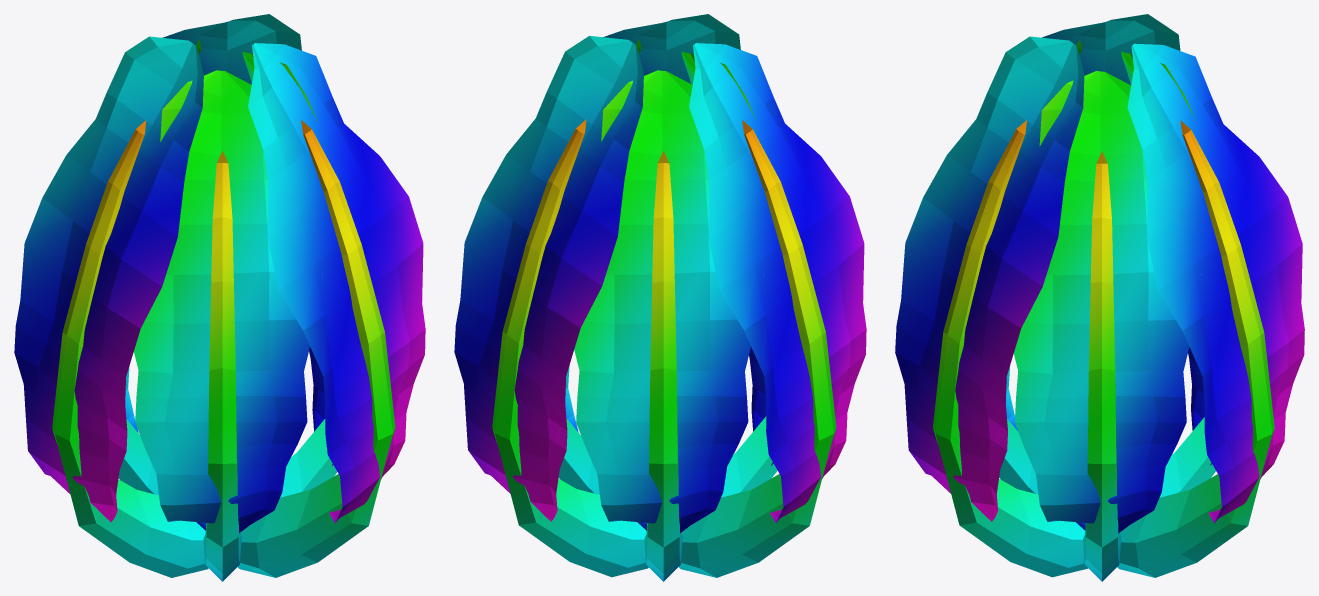
3 views of the same model, side by side, from view 1: azimuth 30°, elevation 25°; view 2: azimuth 150°, elevation 25°; view 3: azimuth 270°, elevation 25° (orthographic).
Visible parts, largest first — view 1: pPlane010, pPlane009, pPlane006, オブジェクト004, オブジェクト024, オブジェクト007, pPlane012, オブジェクト027, オブジェクト025, pPlane013; view 2: pPlane012, pPlane011, pPlane010, オブジェクト024, オブジェクト026, オブジェクト025, pPlane006, オブジェクト007, オブジェクト027, pPlane009; view 3: pPlane006, pPlane013, pPlane012, オブジェクト026, オブジェクト004, オブジェクト027, pPlane010, オブジェクト025, オブジェクト007, pPlane011.
Boxes of the visible parts, x1=… form: pPlane010: x1=14, y1=36, x2=203, y2=522; pPlane009: x1=134, y1=70, x2=322, y2=532; pPlane006: x1=248, y1=43, x2=425, y2=523; オブジェクト004: x1=238, y1=120, x2=395, y2=577; オブジェクト024: x1=52, y1=120, x2=208, y2=577; オブジェクト007: x1=203, y1=151, x2=241, y2=581; pPlane012: x1=162, y1=14, x2=301, y2=84; オブジェクト027: x1=280, y1=419, x2=337, y2=497; オブジェクト025: x1=118, y1=419, x2=158, y2=495; pPlane013: x1=242, y1=51, x2=333, y2=465; pPlane012: x1=454, y1=35, x2=643, y2=521; pPlane011: x1=574, y1=70, x2=763, y2=532; pPlane010: x1=689, y1=43, x2=866, y2=523; オブジェクト024: x1=679, y1=120, x2=836, y2=577; オブジェクト026: x1=492, y1=119, x2=648, y2=577; オブジェクト025: x1=644, y1=151, x2=682, y2=581; pPlane006: x1=603, y1=14, x2=740, y2=83; オブジェクト007: x1=721, y1=415, x2=777, y2=497; オブジェクト027: x1=558, y1=418, x2=599, y2=494; pPlane009: x1=681, y1=51, x2=773, y2=465; pPlane006: x1=895, y1=36, x2=1084, y2=521; pPlane013: x1=1013, y1=71, x2=1201, y2=533; pPlane012: x1=1127, y1=43, x2=1304, y2=523; オブジェクト026: x1=1117, y1=120, x2=1274, y2=577; オブジェクト004: x1=933, y1=120, x2=1088, y2=577; オブジェクト027: x1=1083, y1=151, x2=1121, y2=581; pPlane010: x1=1042, y1=14, x2=1180, y2=85; オブジェクト025: x1=1159, y1=417, x2=1215, y2=497; オブジェクト007: x1=999, y1=418, x2=1038, y2=494; pPlane011: x1=1121, y1=51, x2=1211, y2=465.
Bounding box in the file's own units: 572 × 877 × 616.
1 material, 1 textured.
